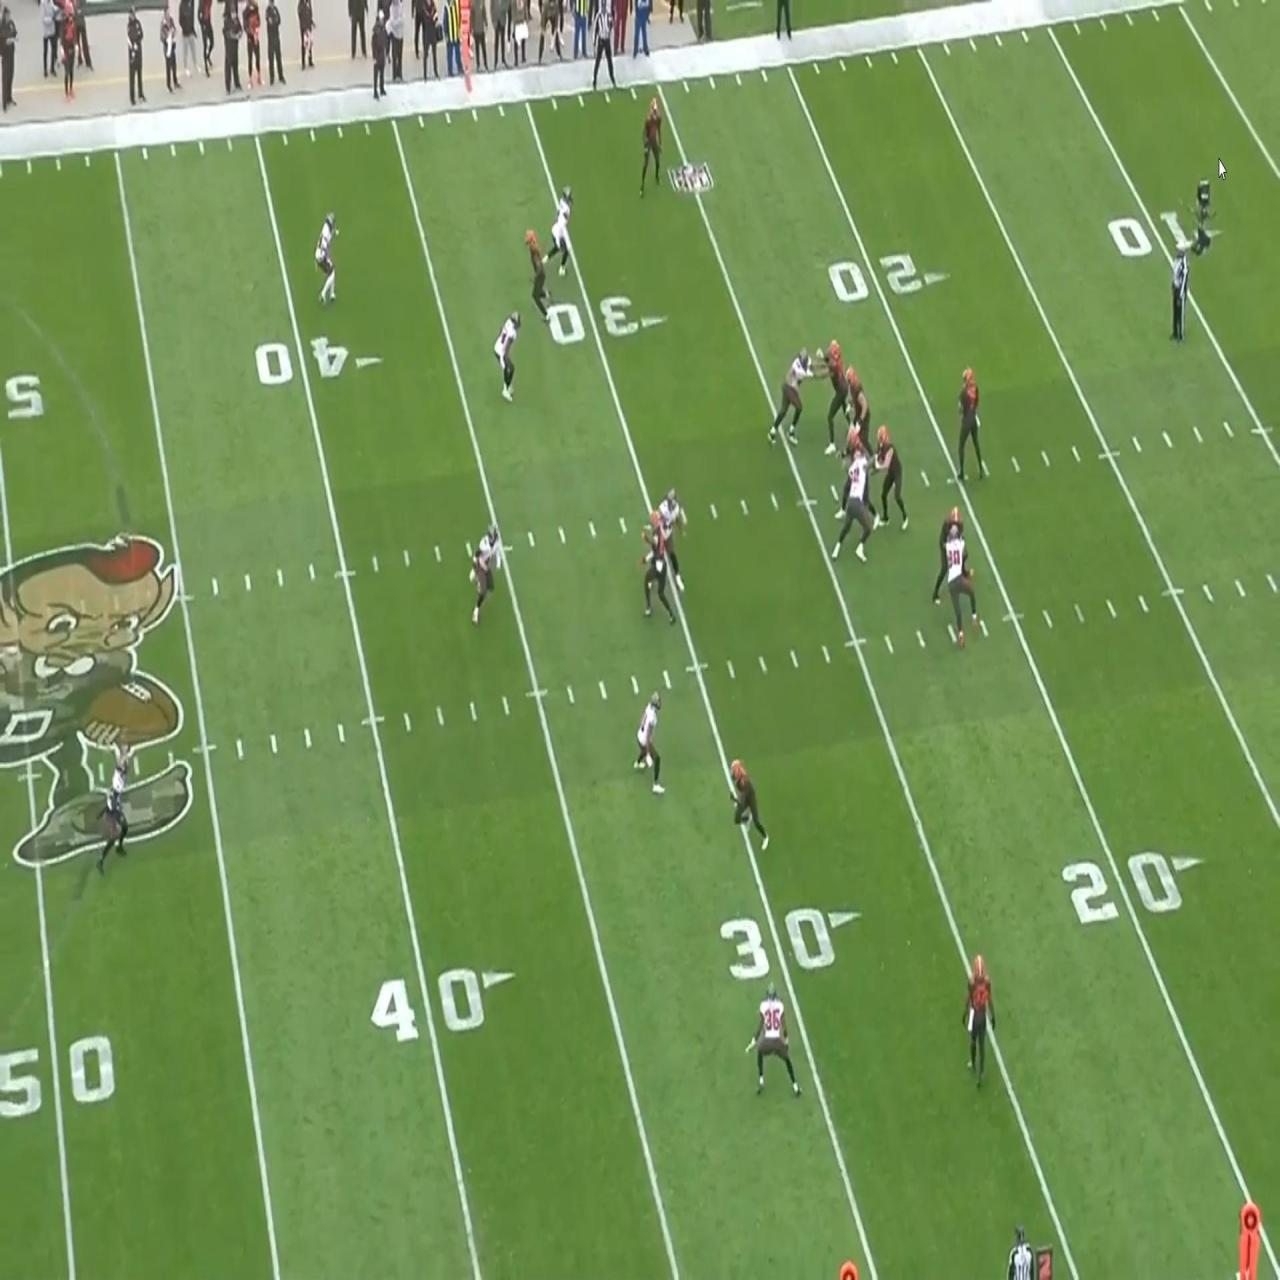10R: (1107, 211, 1225, 260)
20R: (1061, 849, 1207, 926), (828, 252, 952, 301)
30R: (720, 907, 863, 981), (546, 294, 668, 343)
40R: (369, 967, 516, 1042), (253, 335, 384, 387)
50: (0, 1032, 117, 1119), (0, 372, 45, 421)
